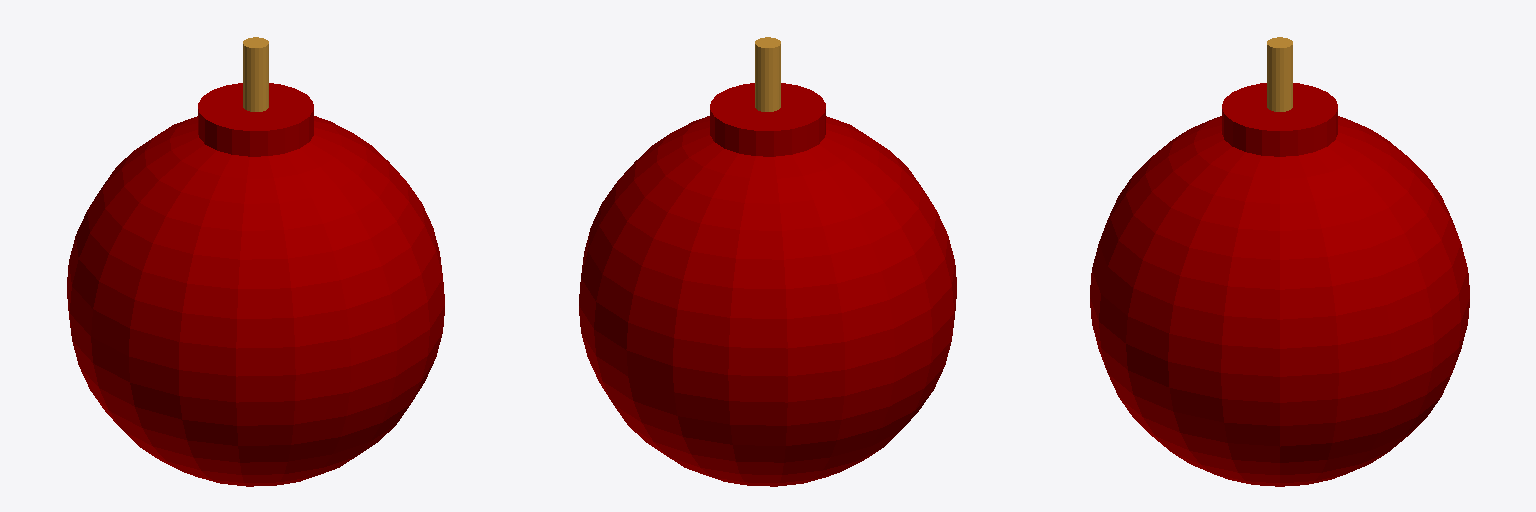
Rendered from bomb001.obj.
3 renders of one model, left to right at view 1: azimuth 30°, elevation 25°; view 2: azimuth 150°, elevation 25°; view 3: azimuth 270°, elevation 25°, orthographic.
Visible parts, largest first — view 1: pSphere1, pCylinder1, pCylinder2; view 2: pSphere1, pCylinder1, pCylinder2; view 3: pSphere1, pCylinder1, pCylinder2.
Part boxes in pixels (bbox=[...]): pSphere1: bbox=[67, 116, 444, 486]; pCylinder1: bbox=[198, 83, 313, 156]; pCylinder2: bbox=[243, 37, 268, 111]; pSphere1: bbox=[579, 116, 956, 486]; pCylinder1: bbox=[710, 83, 825, 156]; pCylinder2: bbox=[755, 37, 780, 111]; pSphere1: bbox=[1090, 116, 1469, 486]; pCylinder1: bbox=[1222, 83, 1337, 156]; pCylinder2: bbox=[1267, 37, 1292, 111].
Size of the model in its own units: 1.72 by 2.12 by 1.72.